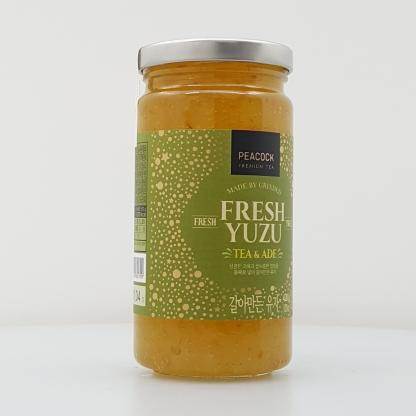------------420G: (132, 37, 294, 379)
